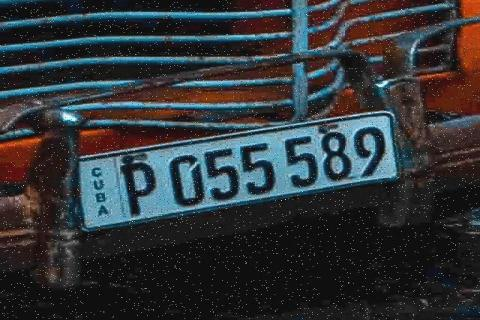LicensePlate: (71, 105, 423, 228)
